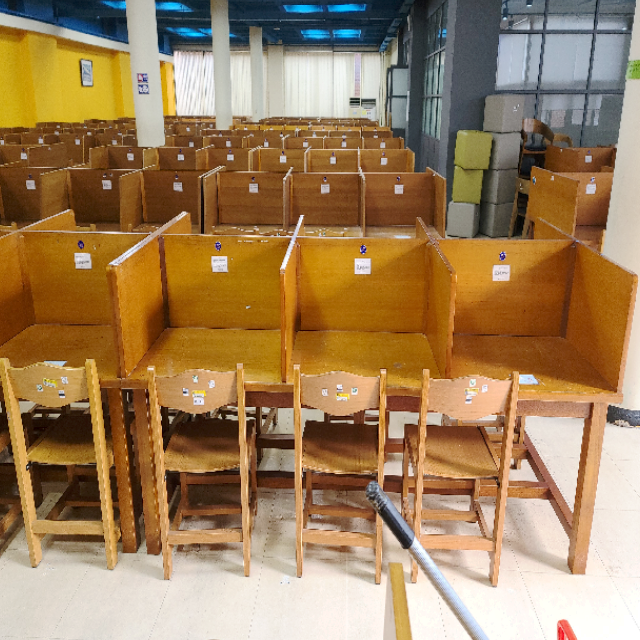empty: (461, 273, 616, 484), (298, 264, 437, 476), (139, 261, 280, 466)
